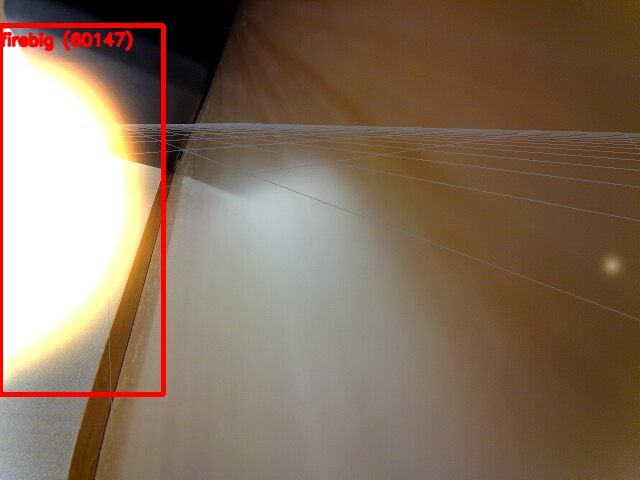firebig: (0, 25, 163, 394)
